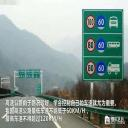speed_limit_100: (86, 13, 96, 31)
speed_limit_80: (85, 58, 96, 76), (86, 36, 96, 53)
